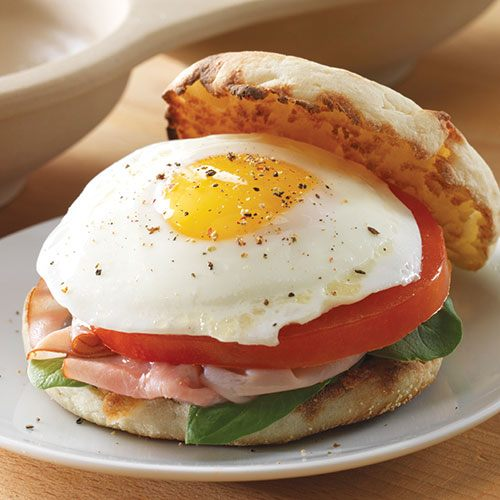fried egg: (67, 152, 371, 325)
slice of bread: (165, 49, 499, 240), (27, 368, 457, 450)
